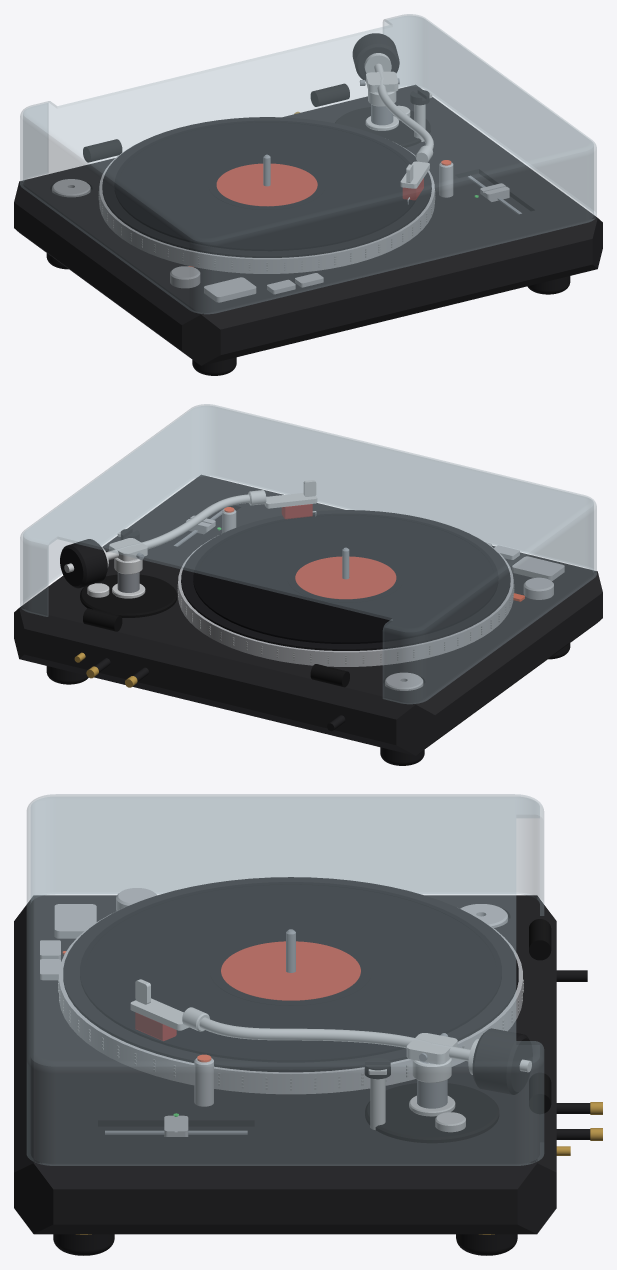
File: turntable.glb
3 views of the same model, one above another, from view 1: azimuth 30°, elevation 25°; view 2: azimuth 150°, elevation 25°; view 3: azimuth 270°, elevation 25° (orthographic). The views are drawn at different scales.
Visible parts, largest first — view 1: cover_shell, chassis, record, platter, platter_mat, record_label, arm_board, counterweight, start_stop, arm_tube, hinge_2, hinge_1 (+6 smaller); view 2: cover_shell, chassis, record, platter, platter_mat, record_label, arm_board, counterweight, arm_tube, start_stop, hinge_1, hinge_2 (+6 smaller); view 3: cover_shell, chassis, record, platter_mat, platter, record_label, arm_board, counterweight, arm_tube, start_stop, foot_2, foot_4 (+10 smaller).
Part boxes in pixels (x1,y1,x2,y2): cover_shell: (20,14,596,313); chassis: (14,85,602,365); record: (114,120,415,251); platter: (99,143,434,273); platter_mat: (102,117,431,257); record_label: (216,163,317,206); arm_board: (335,107,430,147); counterweight: (352,33,399,81); start_stop: (204,277,256,302); arm_tube: (377,78,433,149); hinge_2: (310,83,349,106); hinge_1: (83,139,122,162); cover_shell: (20,404,596,703); chassis: (14,475,602,755); record: (193,513,498,643); platter: (178,534,513,666); platter_mat: (181,510,510,650); record_label: (295,556,396,599); arm_board: (80,574,176,617); counterweight: (60,539,107,588); arm_tube: (128,494,249,549); start_stop: (512,556,564,580); hinge_1: (310,664,349,687); hinge_2: (83,608,122,631); cover_shell: (27,794,543,1165); chassis: (14,895,556,1234); record: (80,882,501,1062); platter_mat: (63,877,518,1072); platter: (59,914,522,1094); record_label: (221,941,360,1000); arm_board: (365,1083,499,1143); counterweight: (472,1028,532,1094); arm_tube: (199,1017,431,1047); start_stop: (54,904,96,938); foot_2: (53,1234,114,1255); foot_4: (456,1234,517,1255).
Bounding box in the file's own units: 0.481 × 0.162 × 0.421.
